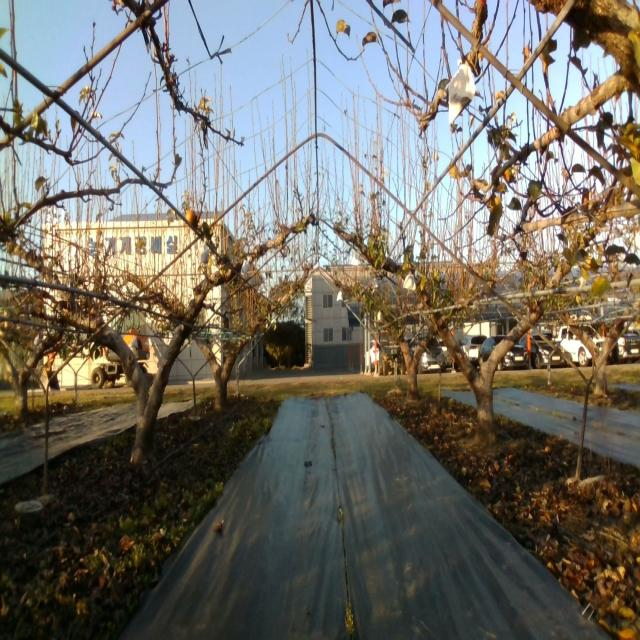pearbags: (447, 58, 475, 130), (199, 238, 209, 266), (403, 270, 416, 291), (240, 260, 250, 280)
